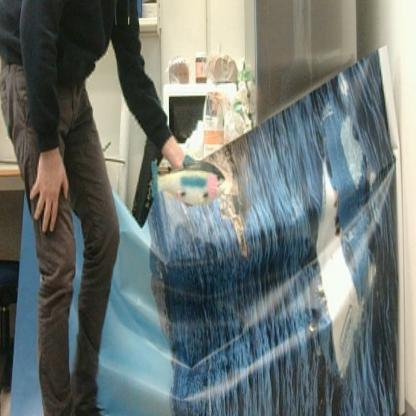rubberfish: (150, 153, 226, 207)
